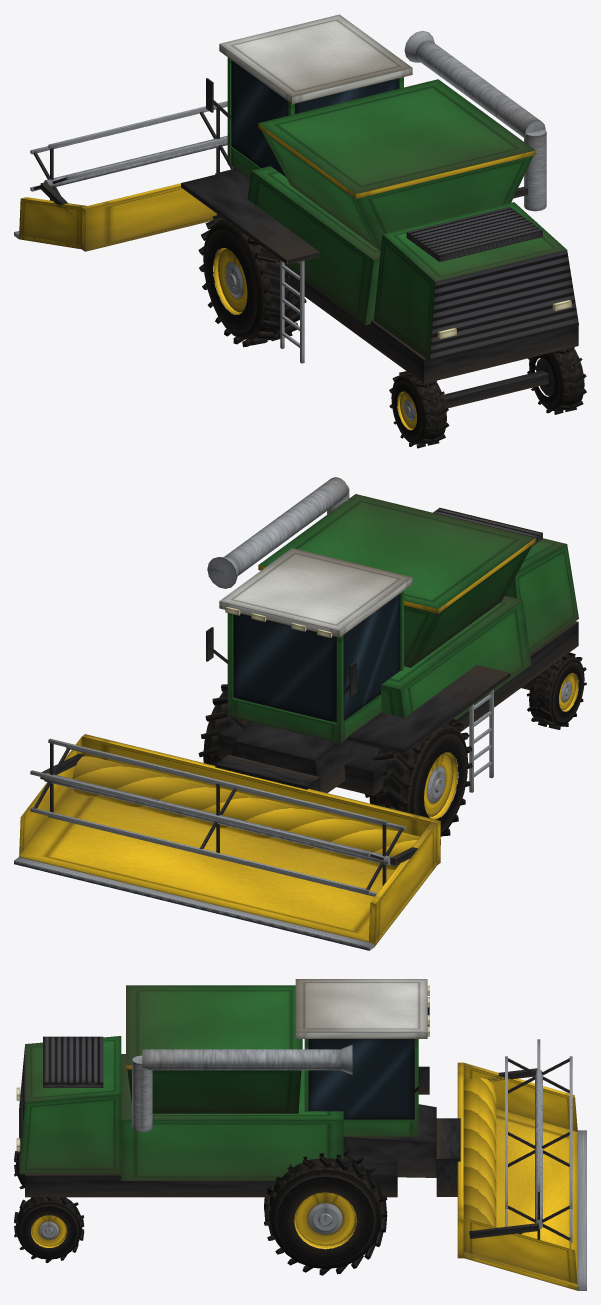
Rendered from Combine.glb.
The picture shows the model from 3 angles, top to bottom: view 1: azimuth 30°, elevation 25°; view 2: azimuth 150°, elevation 25°; view 3: azimuth 270°, elevation 25°; orthographic projection. The views are drawn at different scales.
Visible parts, largest first — view 1: Body, GrainTank, Cab, Header, Wheel_FL, UnloadPipe, Reel, Wheel_RL, Wheel_RR, RearAxle; view 2: Header, Body, Cab, GrainTank, Auger, Reel, Wheel_FL, UnloadPipe, Wheel_RL, Wheel_FR; view 3: Body, Header, GrainTank, Cab, Wheel_FR, Auger, UnloadPipe, Reel, Wheel_RR.
Part boxes in pixels (<box>): Body: <box>181,166,578,383</box>; GrainTank: <box>258,79,546,250</box>; Cab: <box>206,14,412,178</box>; Header: <box>14,169,233,251</box>; Wheel_FL: <box>198,215,306,347</box>; UnloadPipe: <box>404,30,545,137</box>; Reel: <box>30,101,233,200</box>; Wheel_RL: <box>389,371,449,448</box>; Wheel_RR: <box>527,347,586,414</box>; RearAxle: <box>443,370,548,408</box>; Header: <box>14,734,440,950</box>; Body: <box>218,507,578,795</box>; Cab: <box>206,548,412,743</box>; GrainTank: <box>258,485,535,667</box>; Auger: <box>72,755,419,870</box>; Reel: <box>30,738,405,896</box>; Wheel_FL: <box>365,719,472,844</box>; UnloadPipe: <box>207,477,348,588</box>; Wheel_RL: <box>526,652,586,729</box>; Wheel_FR: <box>198,684,248,765</box>; Body: <box>16,1036,436,1197</box>; Header: <box>436,1062,586,1290</box>; GrainTank: <box>126,985,302,1131</box>; Cab: <box>295,979,429,1137</box>; Wheel_FR: <box>264,1149,387,1275</box>; Auger: <box>463,1077,496,1226</box>; UnloadPipe: <box>142,1044,352,1074</box>; Reel: <box>505,1039,572,1242</box>; Wheel_RR: <box>14,1197,84,1262</box>.
Bounding box in the file's own units: 6.2 × 4.18 × 9.54.
1 material, 1 textured.
